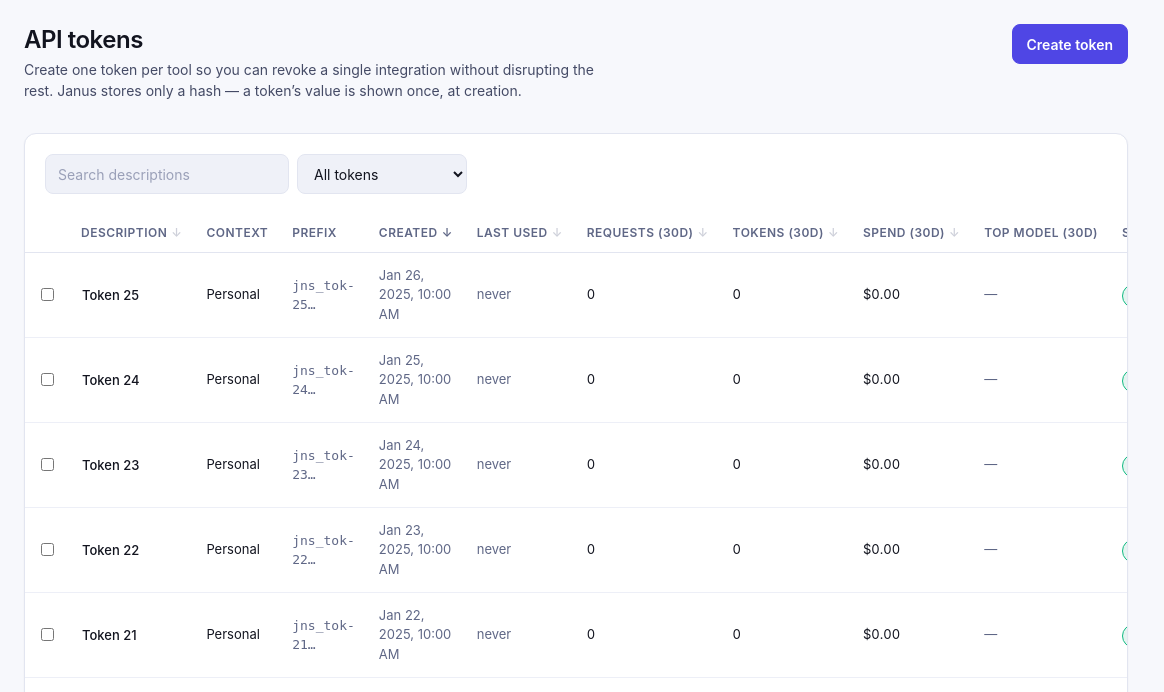
Test: filtering resets pagination › applying a filter from page 2 returns to page 1 instead of a stranded empty table
Select "Revoked only" in the dropdown named "Status" at (382, 174), box [297,154,467,194]
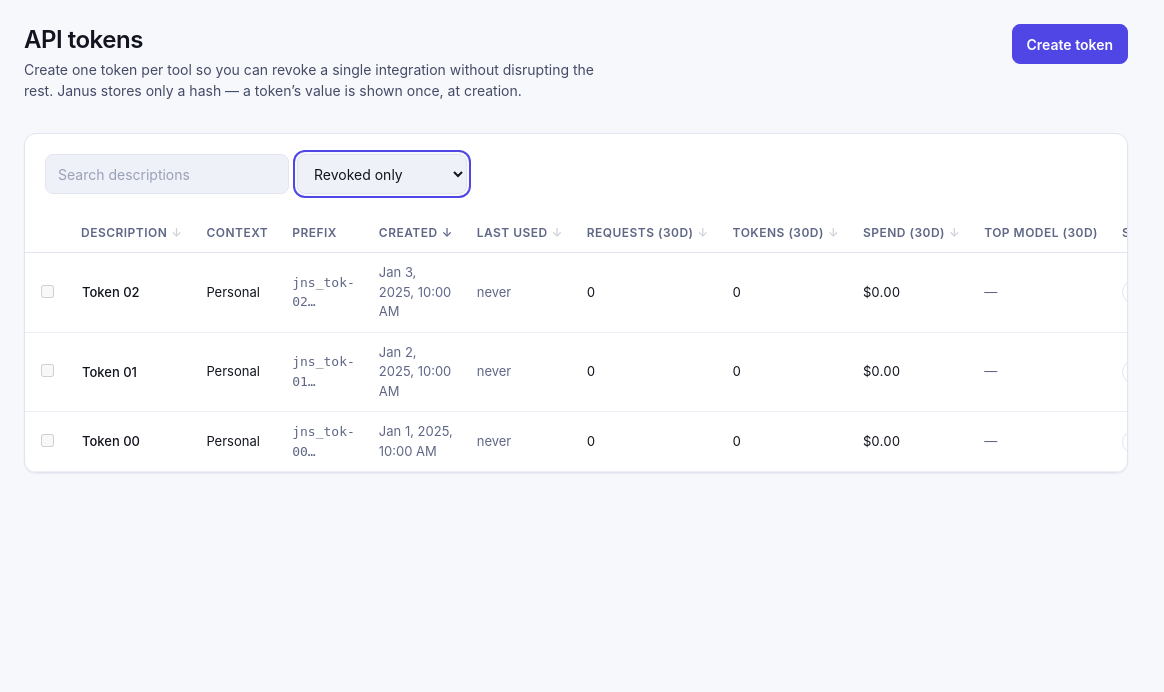
Expected: the button "Token 02" is shown, [81,282,141,304]
Now the button "Token 00" is shown, box [81,431,141,453]
Now the button "Token 01" is shown, box [81,362,138,383]
